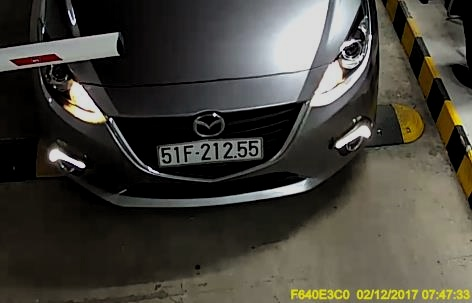plate: (156, 137, 262, 165)
